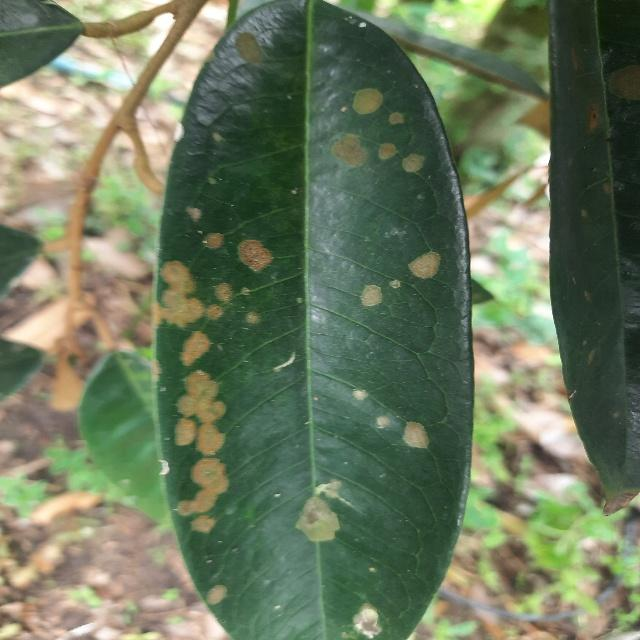Algal Leaf Spot: (143, 0, 482, 640)
